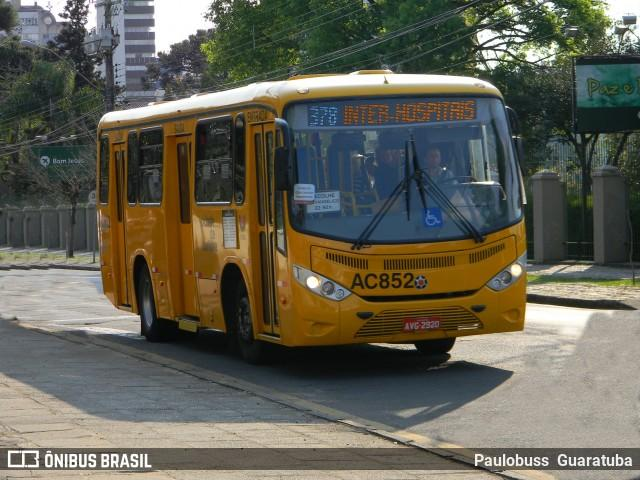INTER HOSPITAIS: (339, 98, 478, 128)
